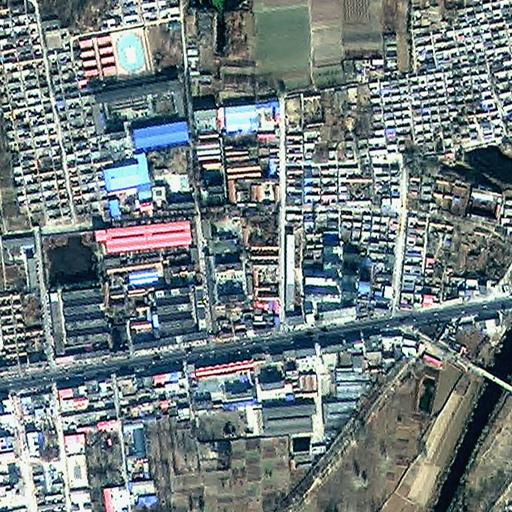school: (74, 23, 155, 85)
